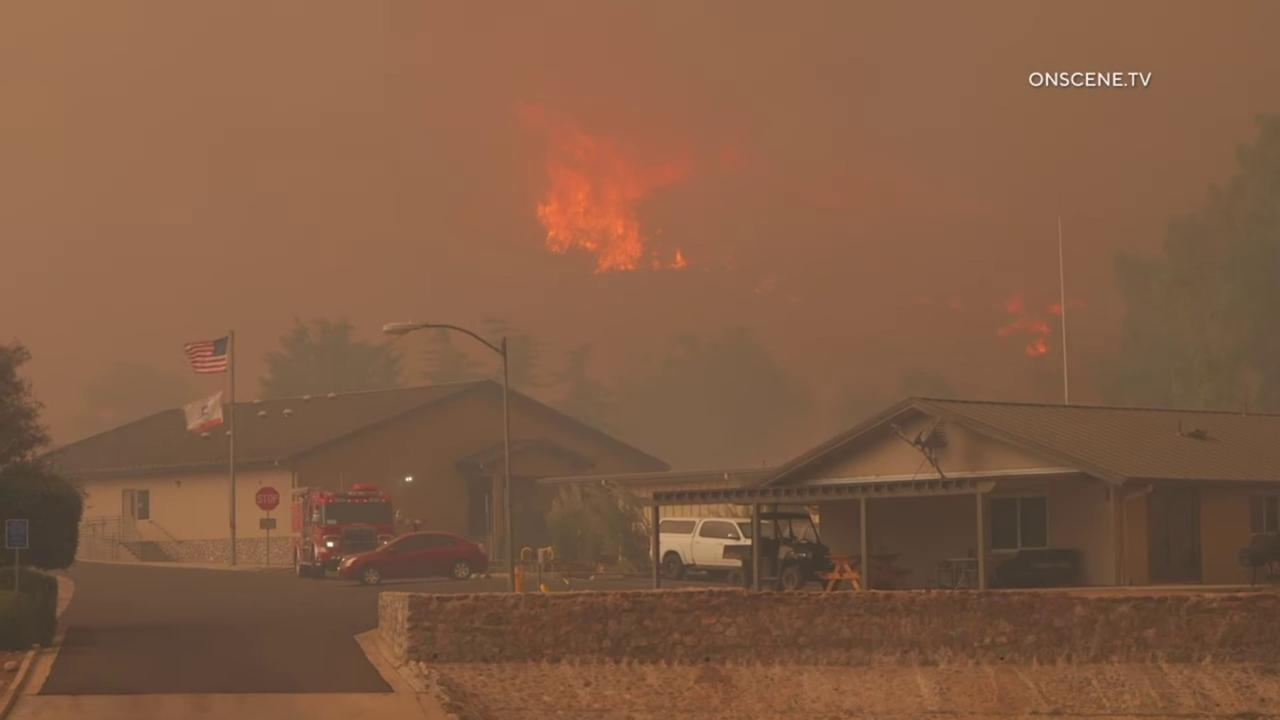fire: (503, 88, 755, 273), (998, 286, 1085, 358)
smoke: (0, 0, 1280, 477)
